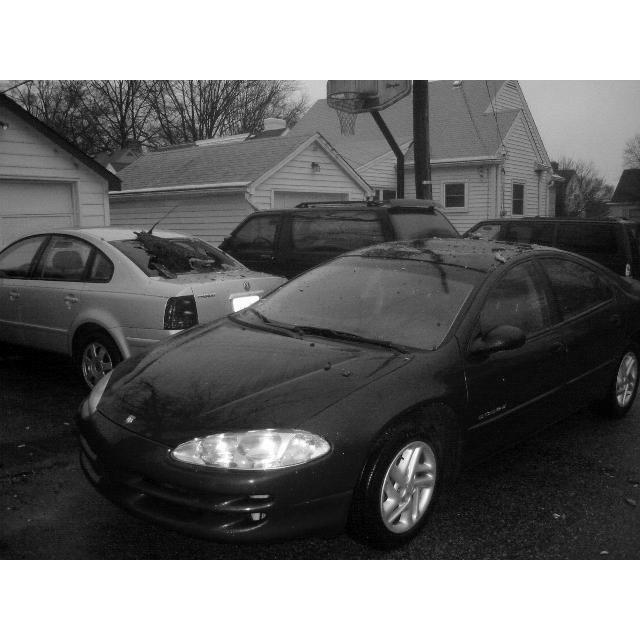bonnet-dent: (105, 343, 293, 436)
